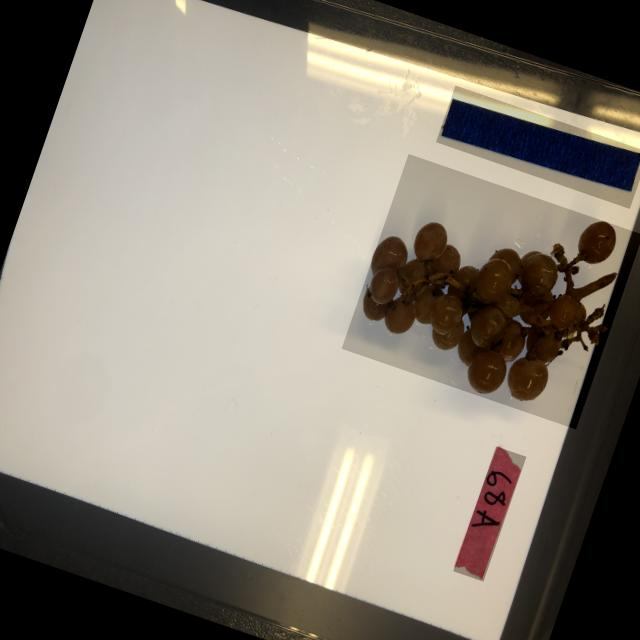grape_cluster: (339, 153, 640, 429)
index: (452, 446, 524, 581)
measure_label: (434, 85, 640, 208)
